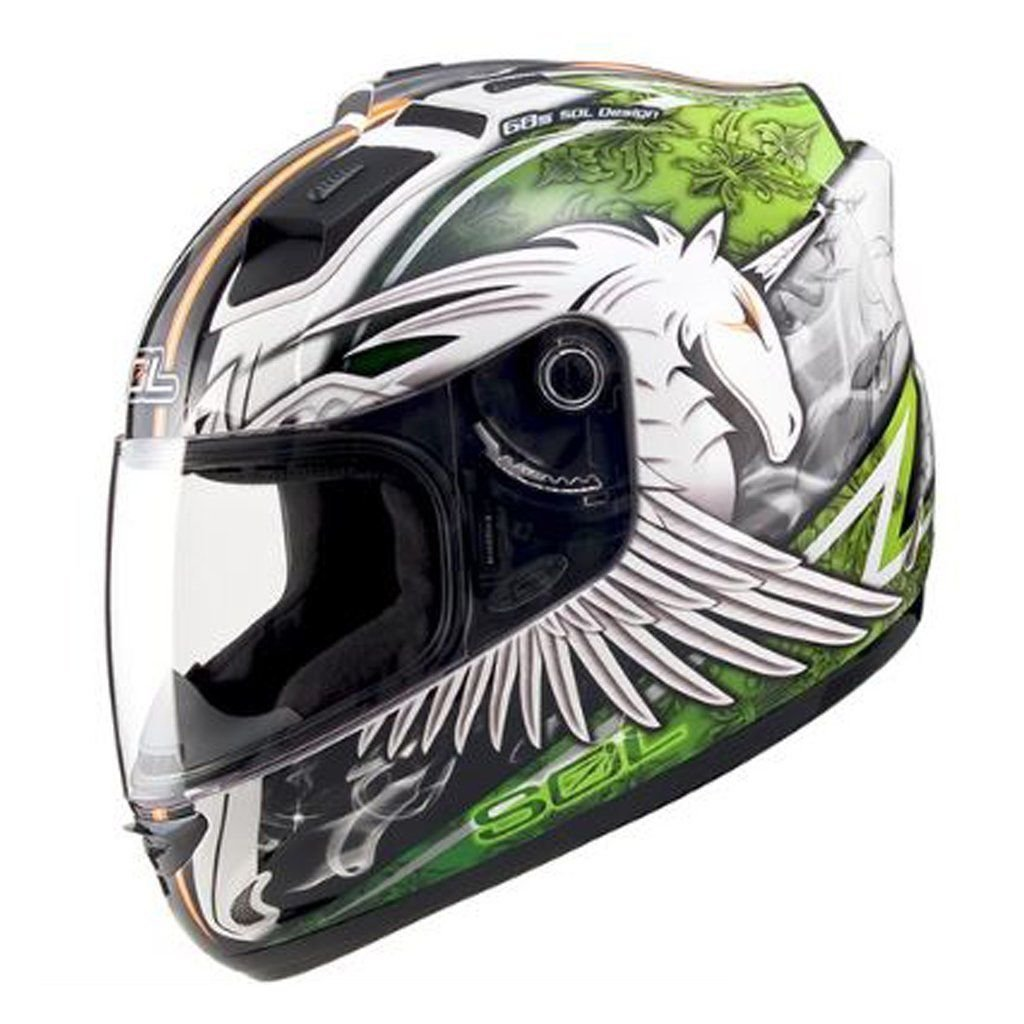with_helmet: (97, 42, 954, 986)
